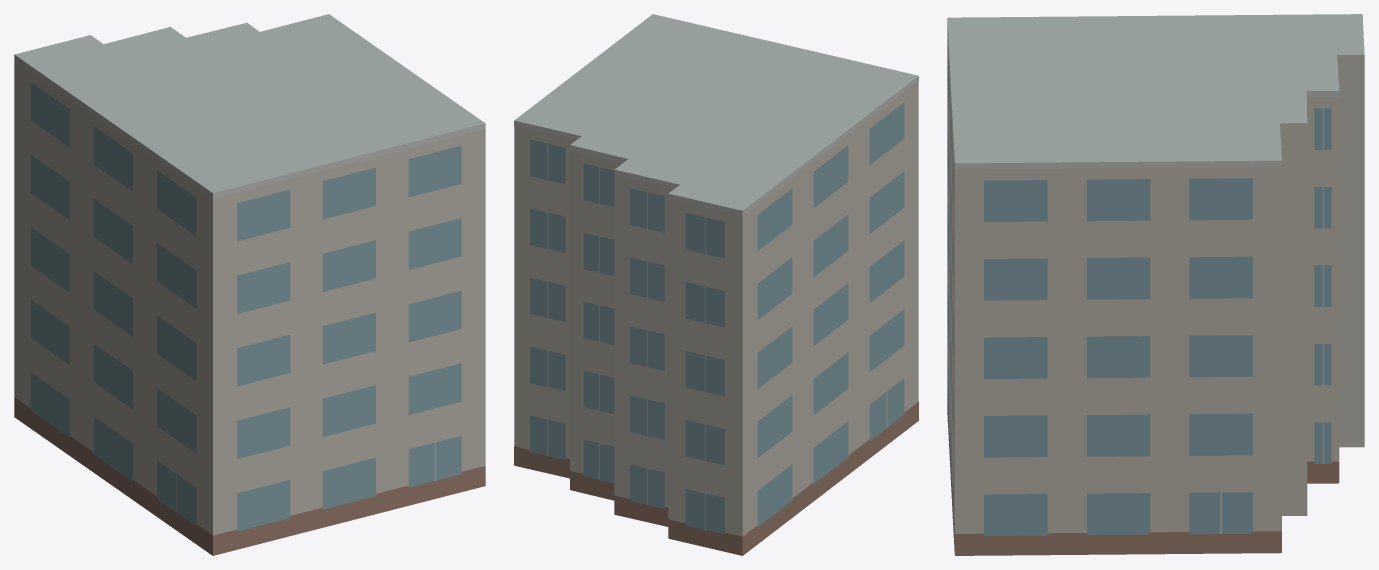
The model's file is survey-upis-32872922.glb.
The picture shows the model from 3 angles, left to right: view 1: azimuth 30°, elevation 25°; view 2: azimuth 150°, elevation 25°; view 3: azimuth 270°, elevation 25°; orthographic projection. The views are drawn at different scales.
Parts seen in each view (by area): view 1: survey-upis-32872922.tmp; view 2: survey-upis-32872922.tmp; view 3: survey-upis-32872922.tmp.
Part boxes in pixels (x1,y1,x2,y2): survey-upis-32872922.tmp: (14, 14, 485, 555); survey-upis-32872922.tmp: (514, 14, 918, 555); survey-upis-32872922.tmp: (947, 14, 1364, 555).
Size of the model in its own units: 12.91 by 15.8 by 15.23.
